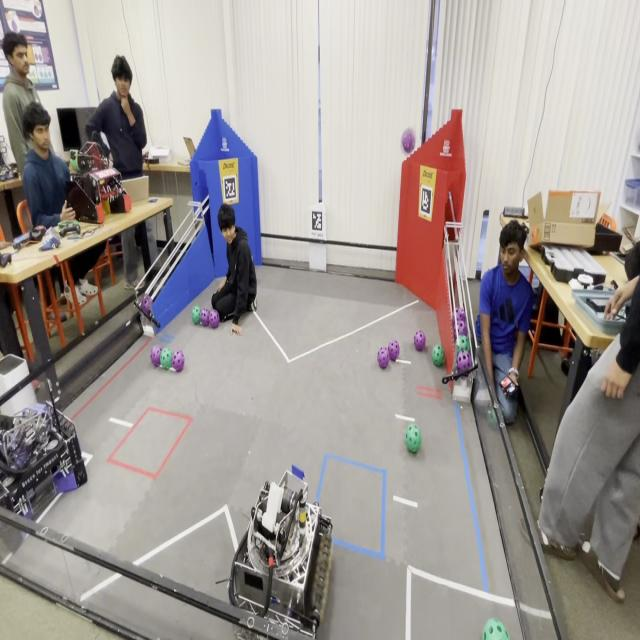artifact_green: (483, 618, 509, 639), (406, 424, 421, 453), (455, 352, 473, 374), (432, 345, 444, 367), (455, 336, 470, 353), (161, 348, 172, 369), (70, 153, 80, 173), (487, 408, 497, 426), (192, 306, 201, 325), (634, 525, 639, 539)
artifact_purple: (456, 351, 472, 373), (401, 128, 415, 153), (378, 347, 390, 369), (172, 351, 184, 372), (414, 331, 426, 351), (388, 340, 399, 361), (151, 345, 161, 367), (141, 295, 151, 315), (209, 310, 219, 328), (200, 309, 209, 326), (457, 320, 467, 335), (452, 312, 458, 336), (456, 307, 466, 321)
